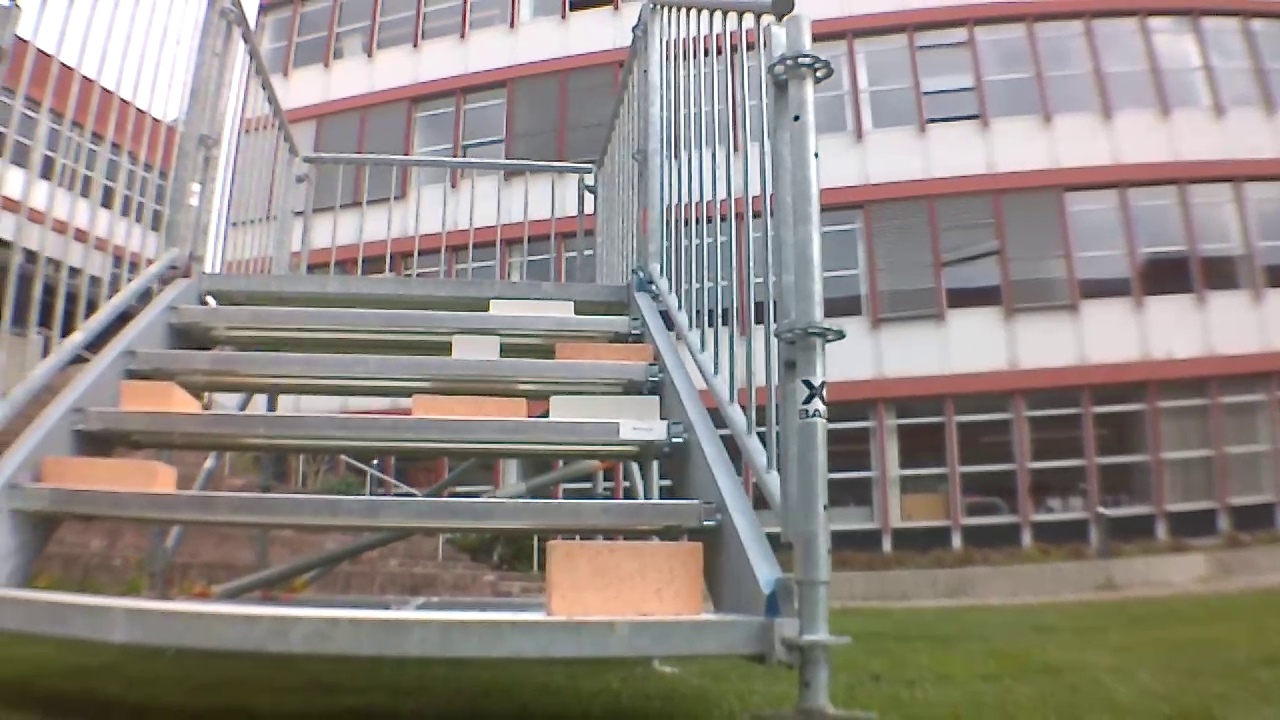brick: (544, 538, 708, 616), (41, 457, 178, 487), (113, 374, 206, 408), (544, 395, 667, 420), (410, 399, 523, 417), (552, 341, 660, 359), (487, 300, 569, 319), (447, 334, 501, 359)
edge: (7, 472, 725, 530), (0, 607, 794, 646), (128, 343, 666, 385), (66, 415, 690, 441), (204, 277, 634, 308), (153, 308, 645, 335)
stairs: (0, 0, 829, 710)
steps: (0, 273, 790, 662)
